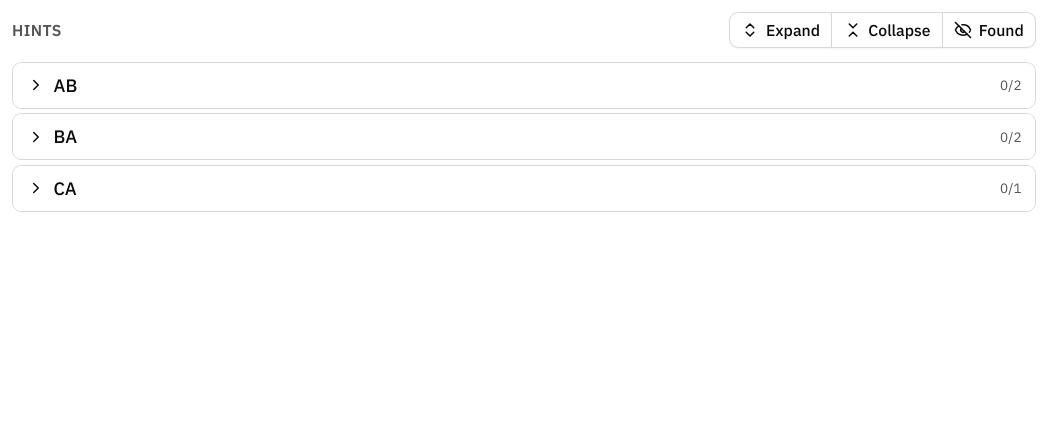
HintsList › collapsible behavior › expands all sections when 'Expand all' is clicked
What coordinates should you click on to do the following:
click the button with aria-label "Expand all sections"
I would click on:
 (781, 30)
Its box is x1=729 y1=12 x2=832 y2=48.
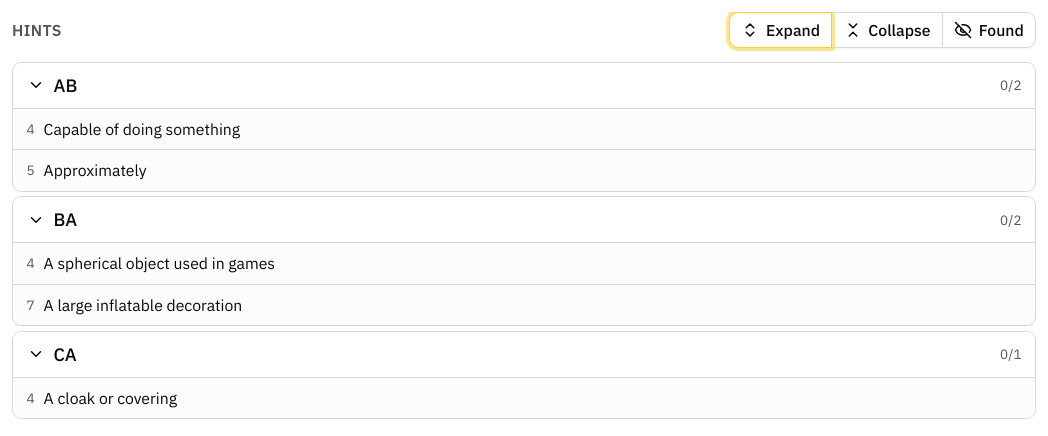
expect the text "Capable of doing something" is shown: met, box x1=44 y1=118 x2=240 y2=140
expect the text "A spherical object used in games" is shown: met, box x1=44 y1=252 x2=275 y2=274
expect the text "A cloak or covering" is shown: met, box x1=44 y1=386 x2=177 y2=409
